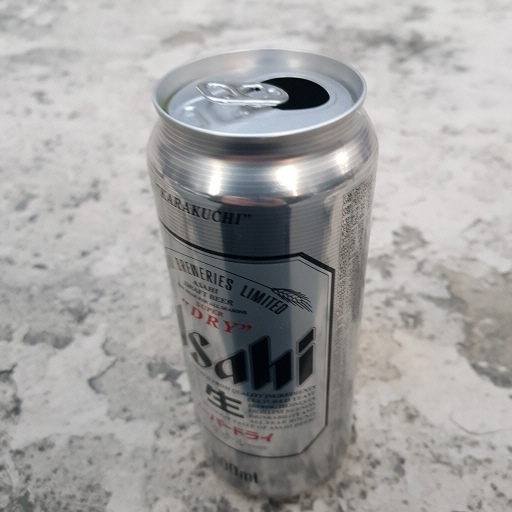Metal_0: (143, 47, 381, 500)
